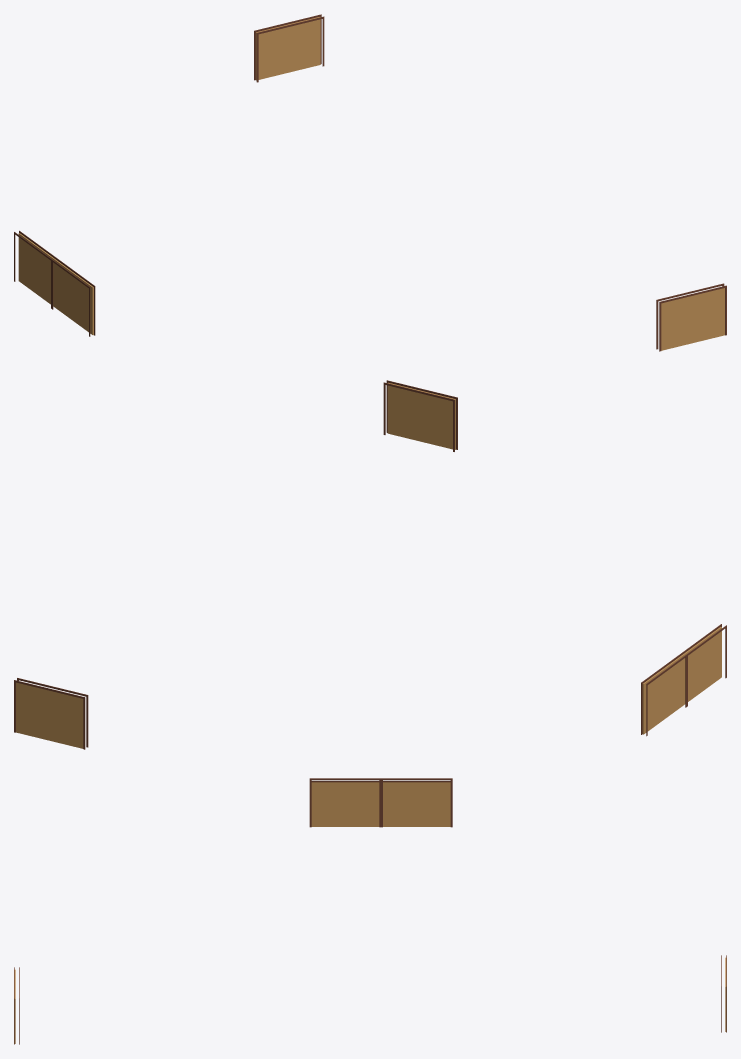
Rendered from testscene_Level_1_IfcDoor.dae.
3 renders of one model, top to bottom at view 1: azimuth 30°, elevation 25°; view 2: azimuth 150°, elevation 25°; view 3: azimuth 270°, elevation 25°, orthographic. The views are drawn at different scales.
Parts seen in each view (by area): view 1: 3Hkgb02ir8gvHVys$4CgNM, 3Hkgb02ir8gvHVys$4CgNr, 3Hkgb02ir8gvHVys$4CgQk, 3Hkgb02ir8gvHVys$4CgK3; view 2: 3Hkgb02ir8gvHVys$4CgNr, 3Hkgb02ir8gvHVys$4CgNM, 3Hkgb02ir8gvHVys$4CgK3, 3Hkgb02ir8gvHVys$4CgQk; view 3: 3Hkgb02ir8gvHVys$4CgK3, 3Hkgb02ir8gvHVys$4CgQk.
Boxes of the visible parts, x1=… form: 3Hkgb02ir8gvHVys$4CgNM: x1=656, y1=283, x2=726, y2=351; 3Hkgb02ir8gvHVys$4CgNr: x1=254, y1=14, x2=324, y2=82; 3Hkgb02ir8gvHVys$4CgQk: x1=51, y1=258, x2=95, y2=336; 3Hkgb02ir8gvHVys$4CgK3: x1=14, y1=230, x2=57, y2=309; 3Hkgb02ir8gvHVys$4CgNr: x1=14, y1=678, x2=88, y2=749; 3Hkgb02ir8gvHVys$4CgNM: x1=383, y1=380, x2=457, y2=451; 3Hkgb02ir8gvHVys$4CgK3: x1=641, y1=652, x2=687, y2=736; 3Hkgb02ir8gvHVys$4CgQk: x1=680, y1=624, x2=726, y2=707; 3Hkgb02ir8gvHVys$4CgK3: x1=379, y1=778, x2=452, y2=827; 3Hkgb02ir8gvHVys$4CgQk: x1=309, y1=778, x2=382, y2=827.
Size of the model in its own units: 22.43 by 30.73 by 2.21.
